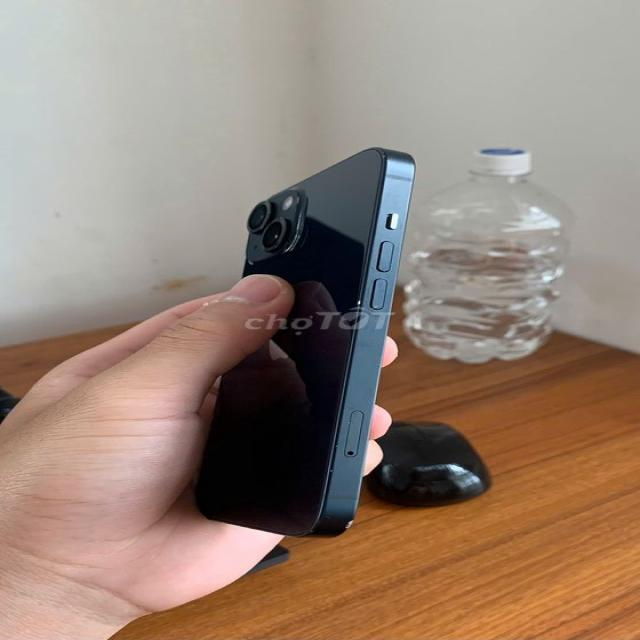scratch: (326, 500, 371, 535)
